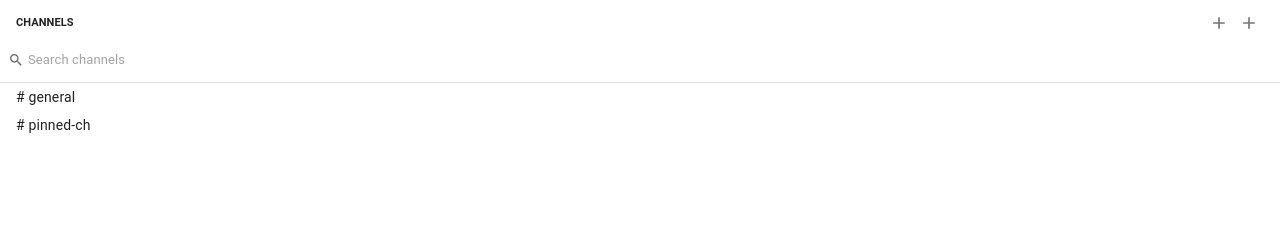
it: ChannelList: ピン留めチャンネルのUI表示 › ピン留めセクションの表示 › ピン留めチャンネルが存在する場合、「ピン留め」セクションがサイドバー最上部に表示される
Hover over the list item "# pinned-ch" at x=53, y=125, box [16,117,91,133]
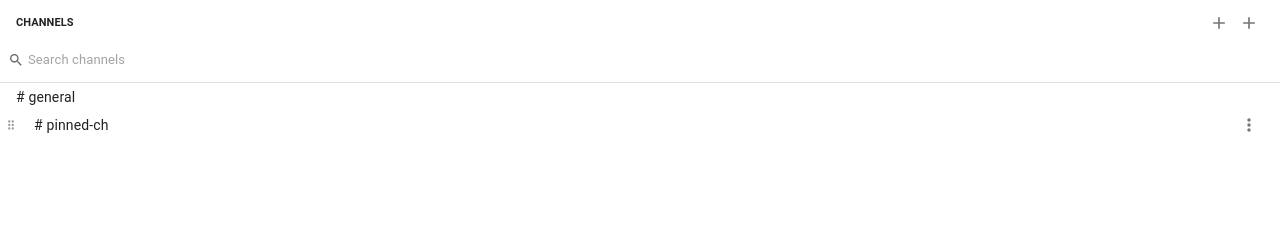
Click the button named "その他のアクション" at x=1249, y=125, box [1234,110,1264,140]
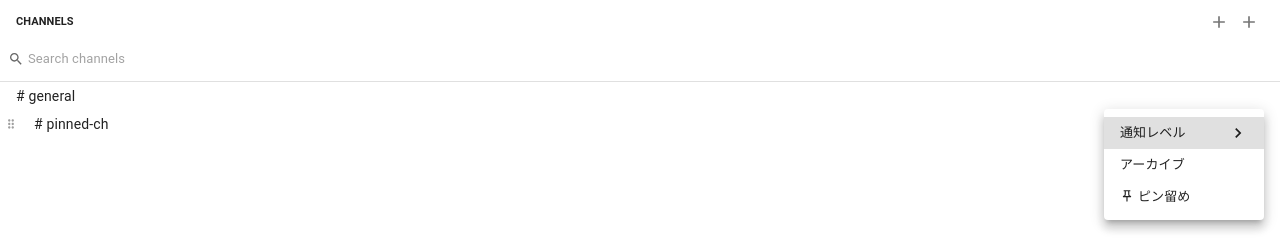
Result: the menu item "ピン留め" is shown
Click the menu item "ピン留め" at x=1155, y=196, box [1120,188,1190,204]
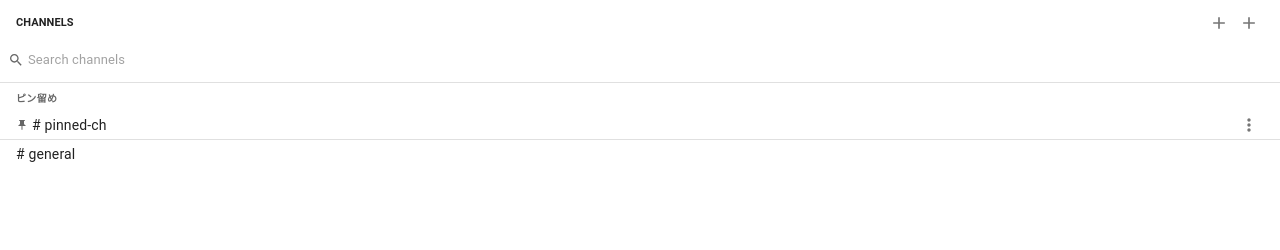
Result: the element with test id "pinned-channels" is shown at [0,83,1279,140]
Result: the element with test id "pinned-channels" shows "ピン留め" at [16,93,57,104]
